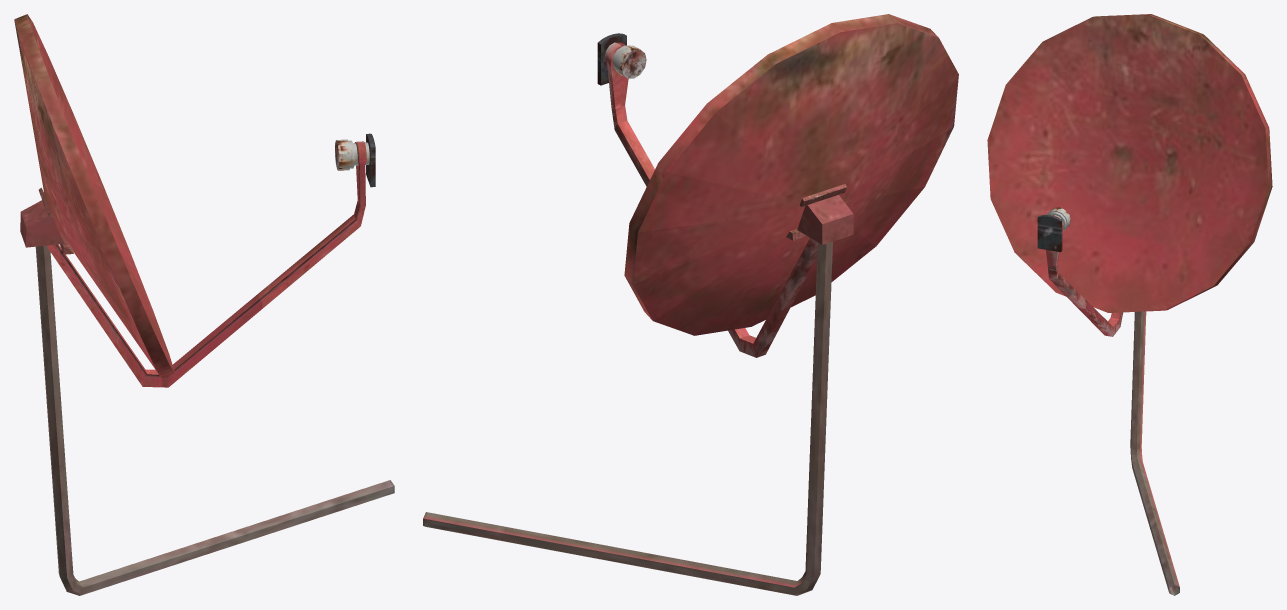
The model's file is dish.glb.
3 renders of one model, left to right at view 1: azimuth 30°, elevation 25°; view 2: azimuth 150°, elevation 25°; view 3: azimuth 270°, elevation 25°, orthographic. The views are drawn at different scales.
Bounding box in the file's own units: 1.31 × 1.72 × 1.01.
Materials: 1 (1 with a texture image).
